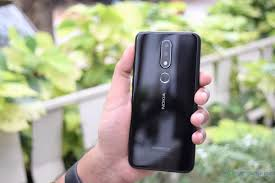nokia: (127, 29, 200, 173)
